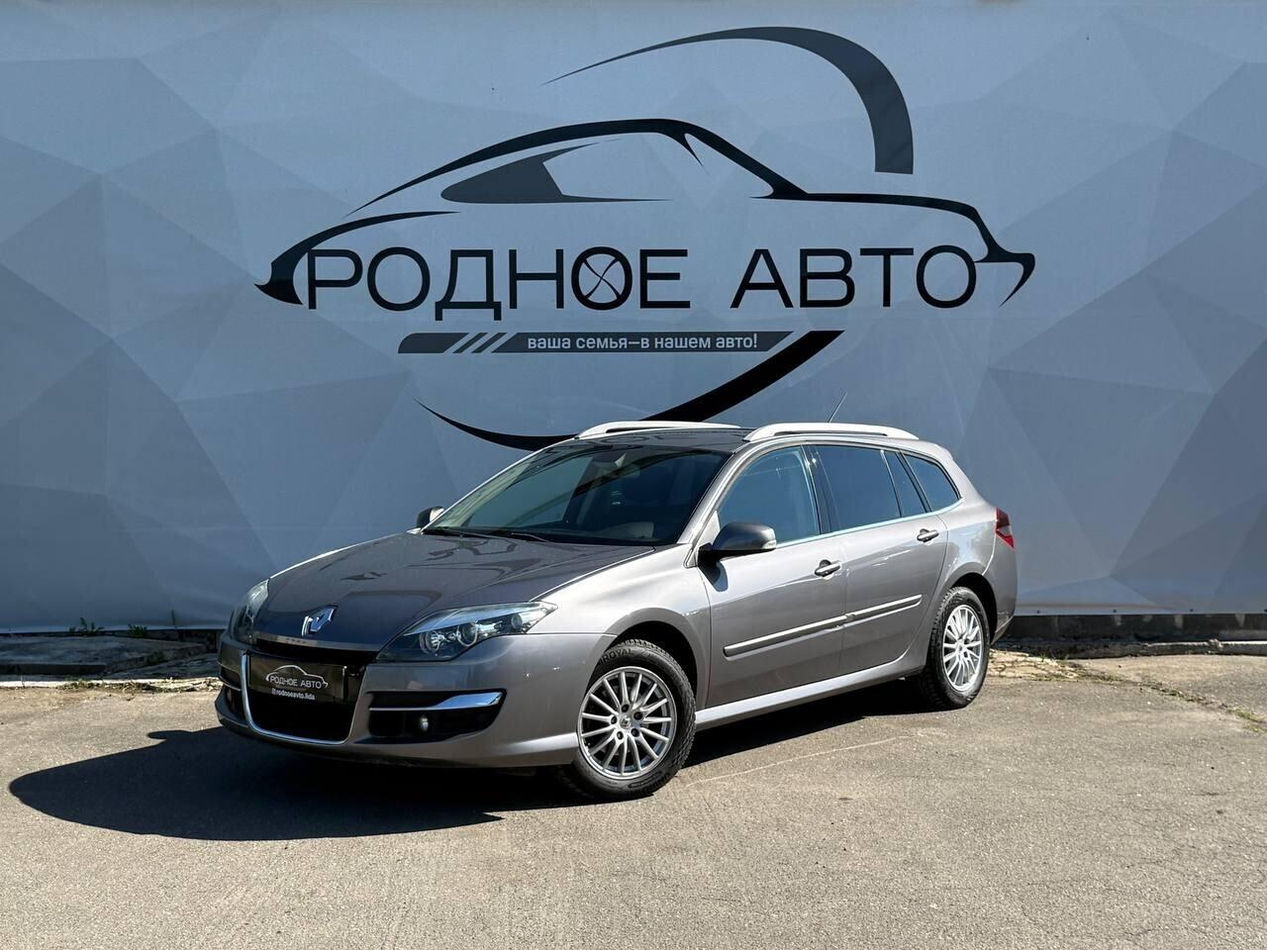Laguna_2010-2015: (213, 413, 1028, 797)
